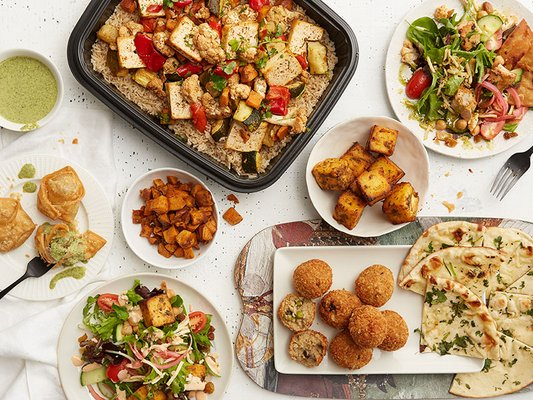burger: (489, 146, 533, 202)
salad: (0, 256, 50, 301)
sushi: (61, 0, 360, 191), (383, 0, 533, 159), (56, 274, 235, 400), (305, 115, 432, 237), (120, 167, 219, 270), (0, 47, 65, 133)
